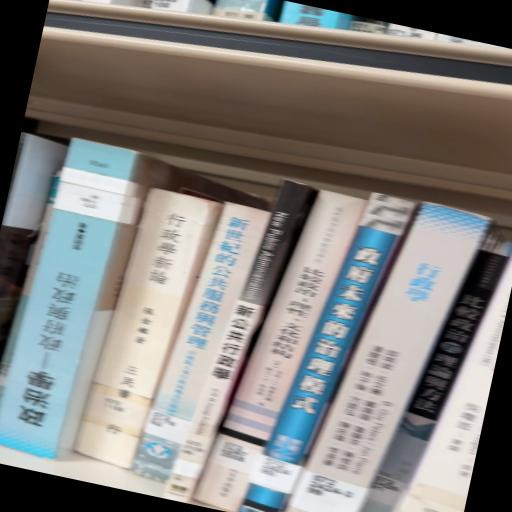reverse: (1, 139, 200, 460)
